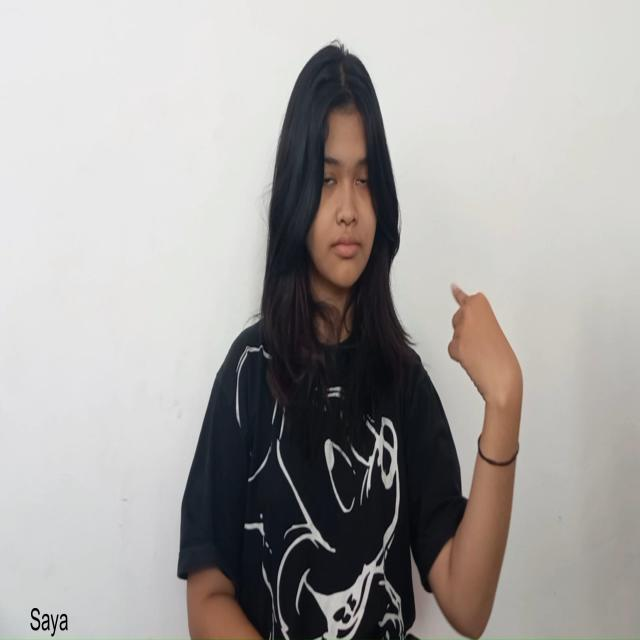Saya -BISINDO-: (445, 277, 526, 437)
